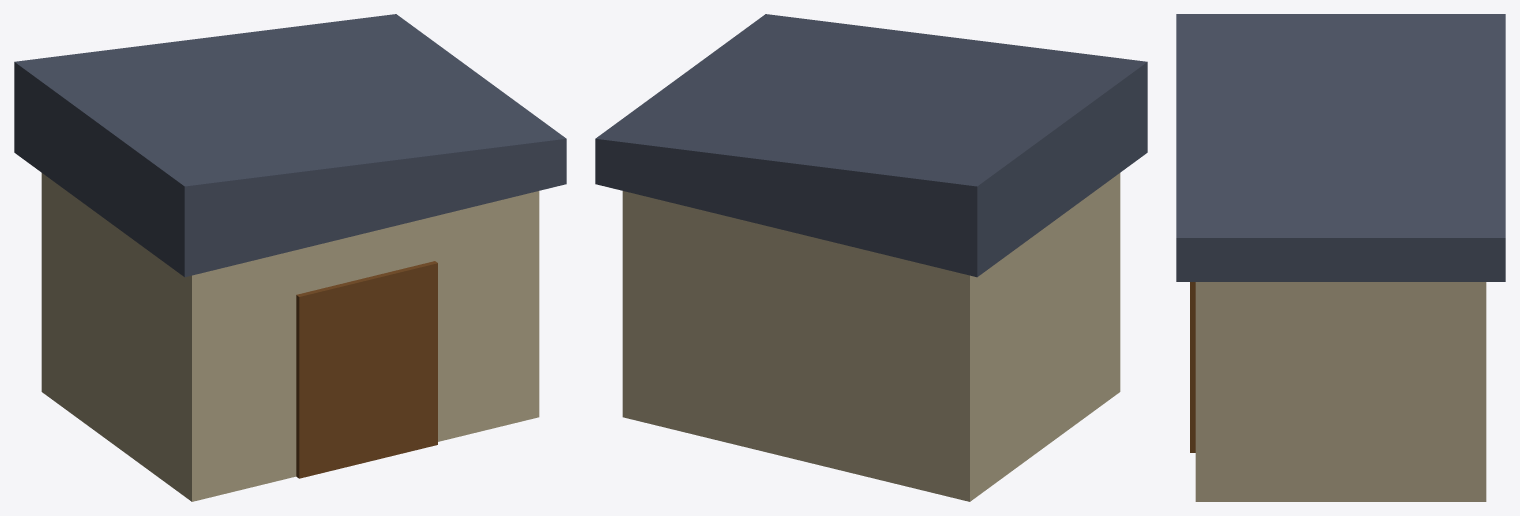
File: shed.glb
The picture shows the model from 3 angles, left to right: view 1: azimuth 30°, elevation 25°; view 2: azimuth 150°, elevation 25°; view 3: azimuth 270°, elevation 25°; orthographic projection. The views are drawn at different scales.
Parts seen in each view (by area): view 1: model; view 2: model; view 3: model.
Part boxes in pixels (left/top/right/bottom): model: left=14, top=14, right=566, bottom=501; model: left=595, top=14, right=1147, bottom=501; model: left=1176, top=14, right=1505, bottom=501.
Size of the model in its own units: 4.4 by 3.6 by 3.4.
